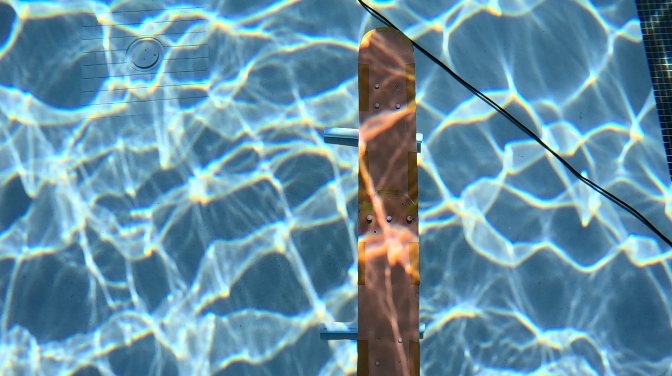pathmarker: (357, 27, 418, 375)
